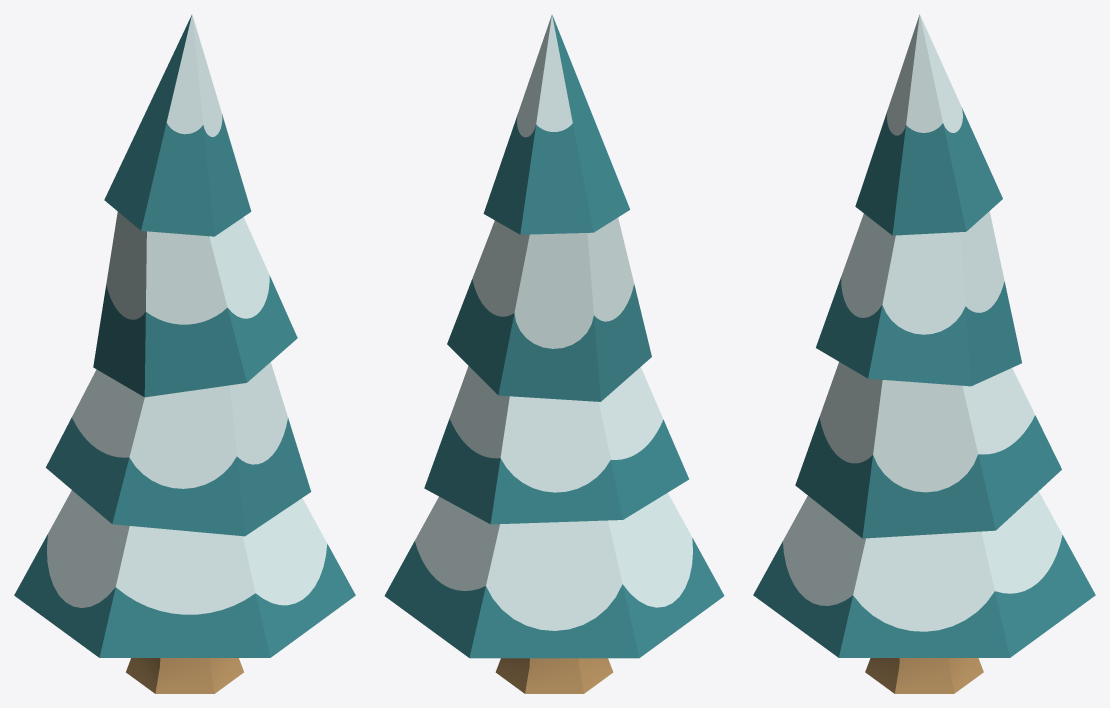
Rendered from treePineSnowRound.fbx.
The picture shows the model from 3 angles, left to right: view 1: azimuth 30°, elevation 25°; view 2: azimuth 150°, elevation 25°; view 3: azimuth 270°, elevation 25°; orthographic projection.
Parts seen in each view (by area): view 1: treePineSnowRound; view 2: treePineSnowRound; view 3: treePineSnowRound.
Boxes of the visible parts, x1,y1,x2,y2 form: treePineSnowRound: (14,14,355,693); treePineSnowRound: (384,14,724,693); treePineSnowRound: (753,14,1095,693).
Bounding box in the file's own units: 6.51 × 15.98 × 7.52.
